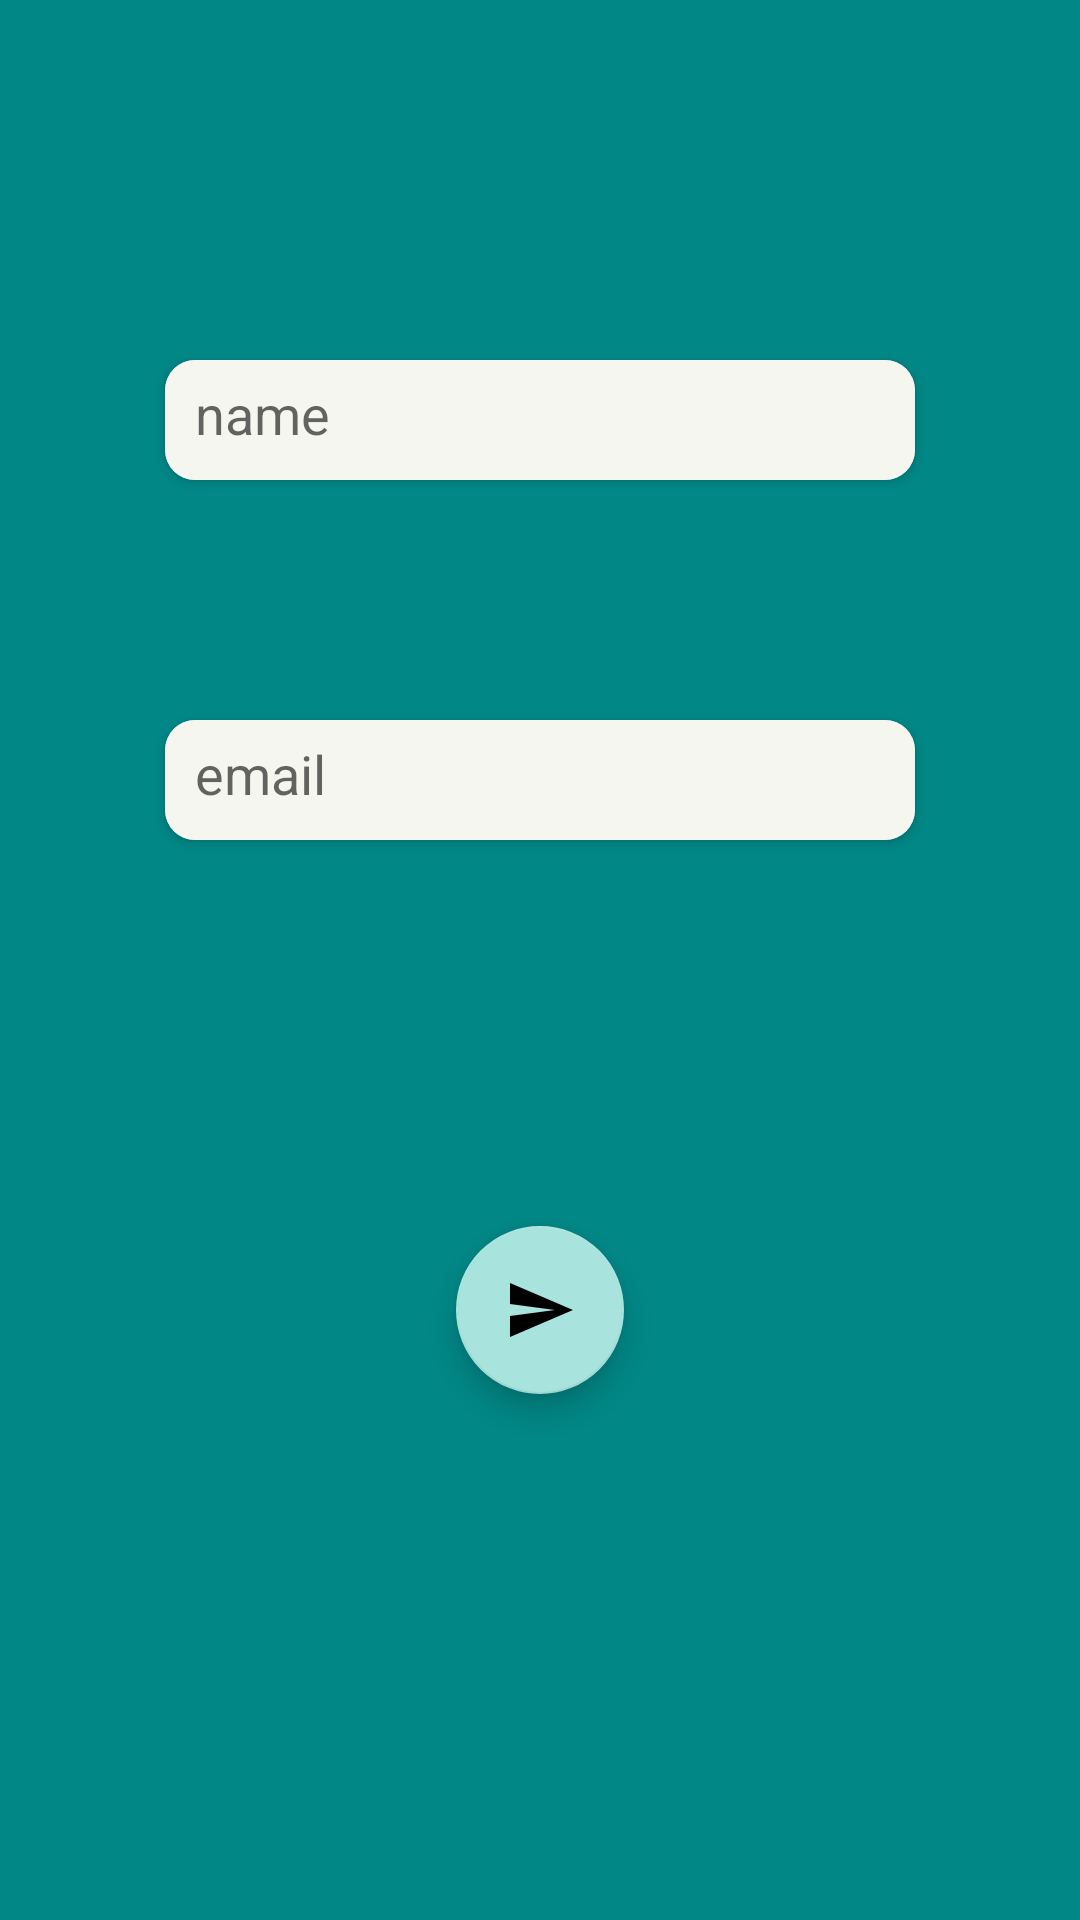

Screen size 1080px x 1920px. Icon name, then its box in pixels as (x1, y1, x2, y2):
send: (456, 1226, 624, 1394)
